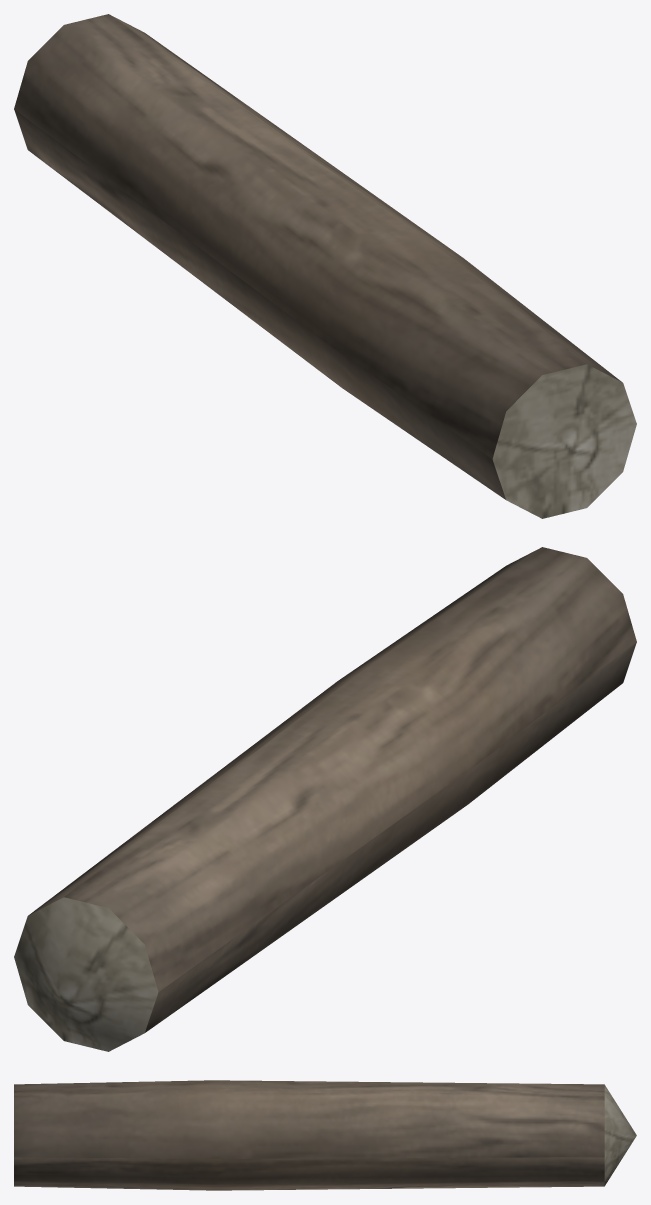
Rendered from Fence_Pole_Type_02_B.fbx.
3 renders of one model, top to bottom at view 1: azimuth 30°, elevation 25°; view 2: azimuth 150°, elevation 25°; view 3: azimuth 270°, elevation 25°, orthographic. The views are drawn at different scales.
Visible parts, largest first — view 1: Fence_Pole_Type_02_B; view 2: Fence_Pole_Type_02_B; view 3: Fence_Pole_Type_02_B.
Boxes of the visible parts, x1,y1,x2,y2 form: Fence_Pole_Type_02_B: (14, 14, 636, 518); Fence_Pole_Type_02_B: (14, 547, 636, 1051); Fence_Pole_Type_02_B: (14, 1080, 636, 1190).
Bounding box in the file's own units: 0.2721 × 0.2592 × 1.53.
